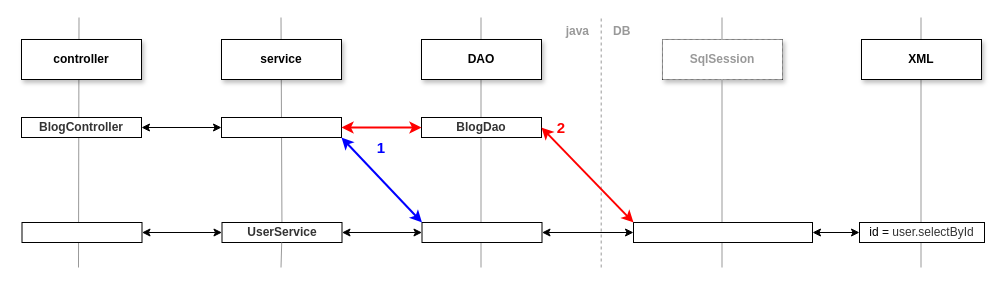
The diagram is 1005 pixels wide and 286 high, and some of its shapes have lost their labels. Each missing label, with the centre of its shape:
Blog Service: pixel 281 127
selectOne("user. selectById", id): pixel 722 232
UserController: pixel 81 232
UserDao: pixel 481 232
